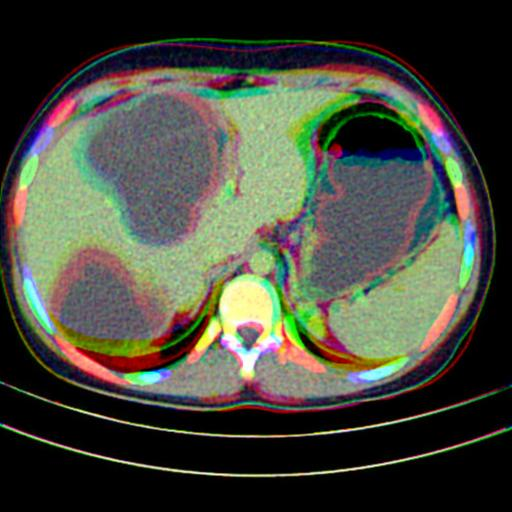Cyst: (86, 96, 237, 244), (51, 248, 164, 339)
